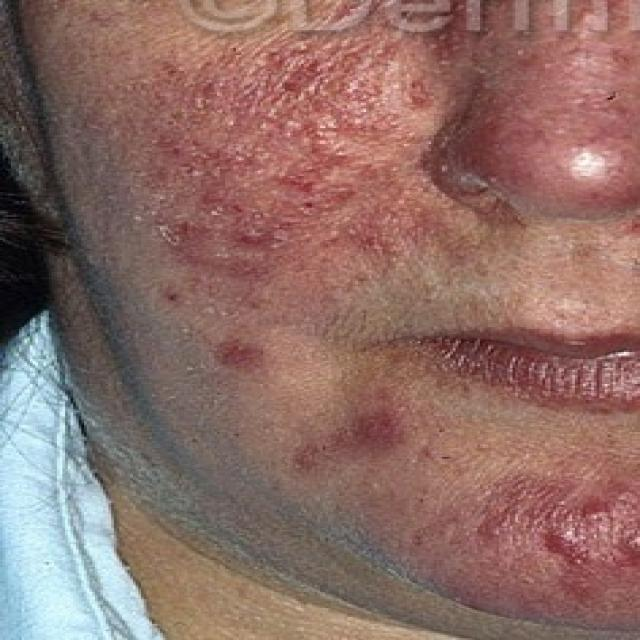Rosacea: (174, 44, 433, 269)
